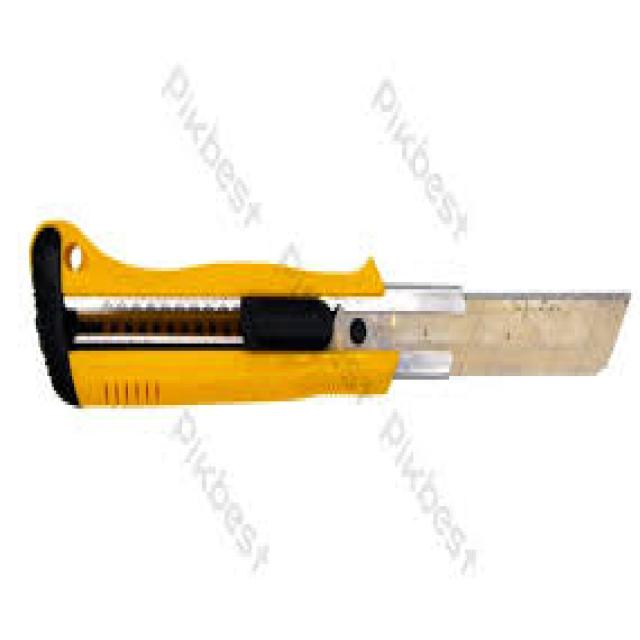Knife: (31, 221, 629, 405)
